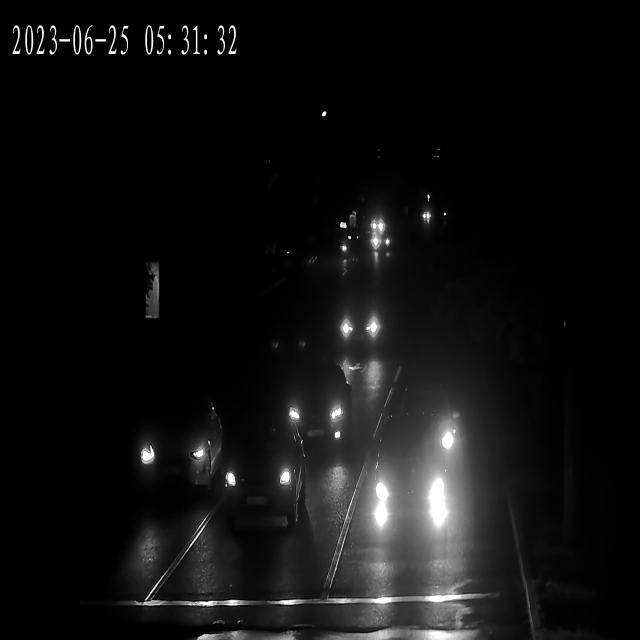Car: (137, 384, 223, 508), (368, 450, 452, 562), (222, 420, 302, 535), (278, 359, 354, 453), (412, 396, 469, 469), (338, 286, 383, 350), (365, 212, 388, 235), (369, 231, 391, 252), (420, 209, 433, 230)
